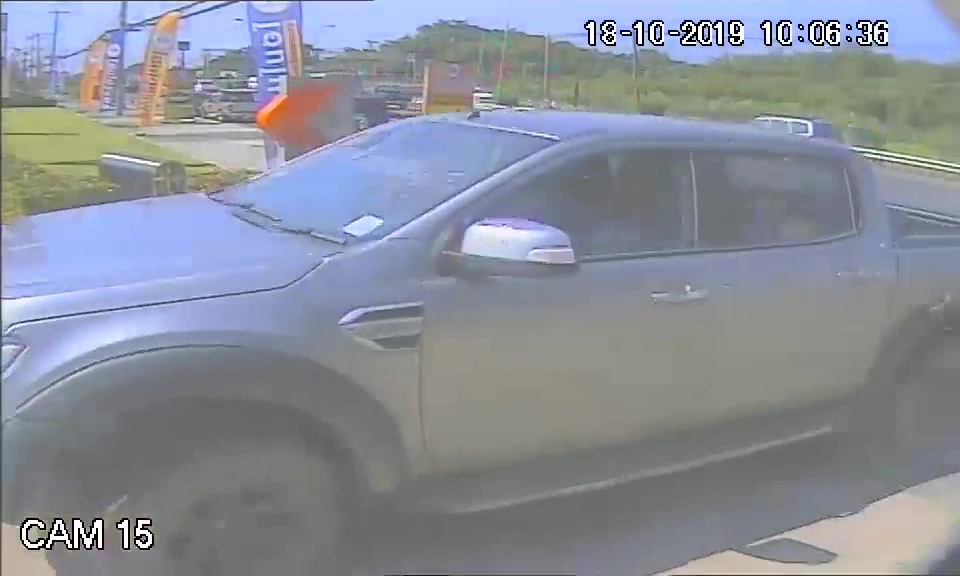pickup: (1, 106, 960, 526)
